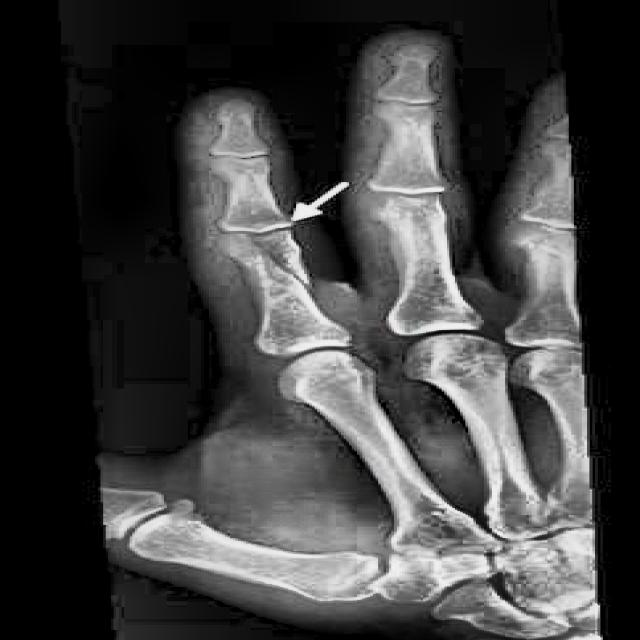fracture: (241, 231, 317, 294)
